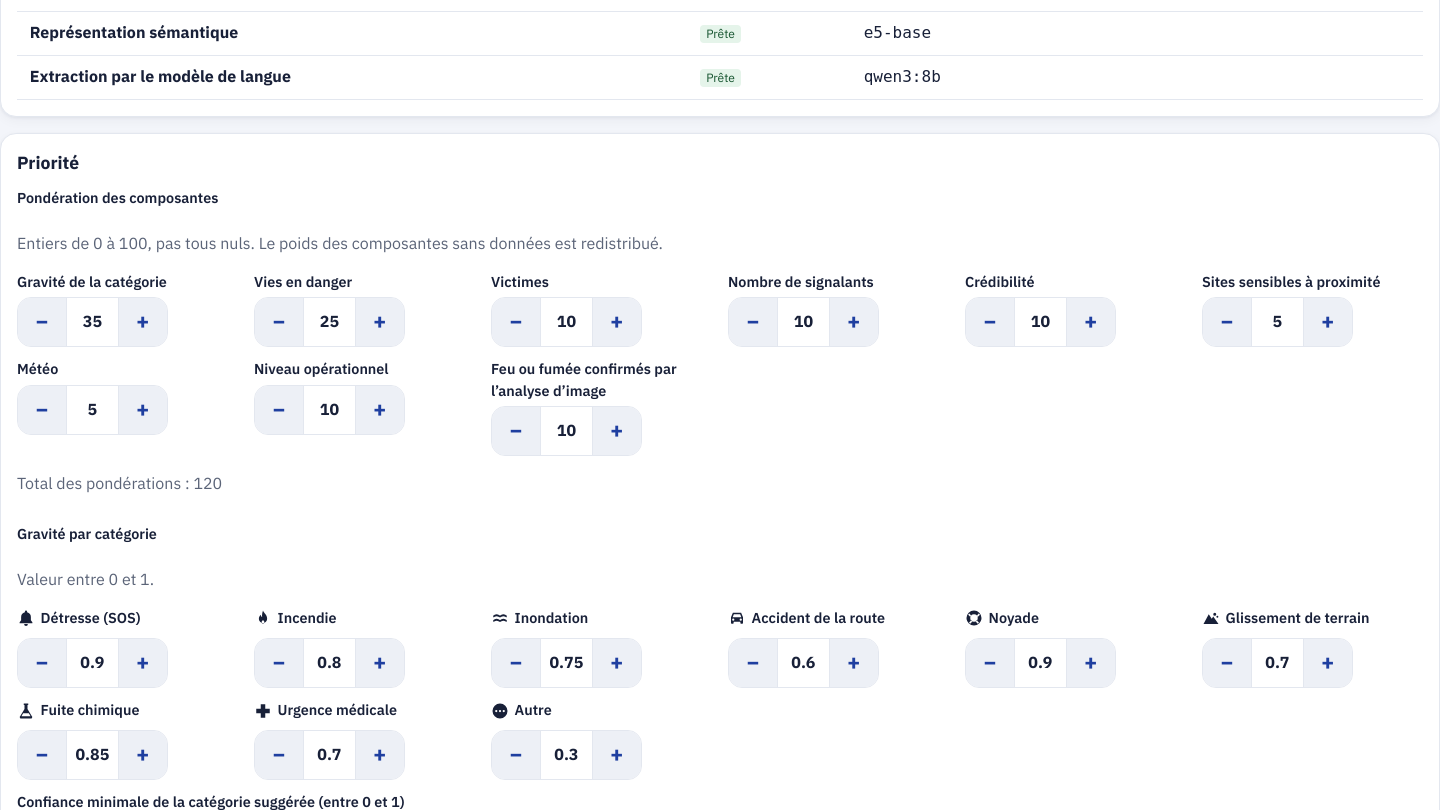
Scenario: AiSettingsPage › saves valid settings with PUT
(page scrolled)
Replace the text in the number field labelled "Météo" with "8": (92,410) x1=66 y1=386 x2=119 y2=434
(page scrolled)
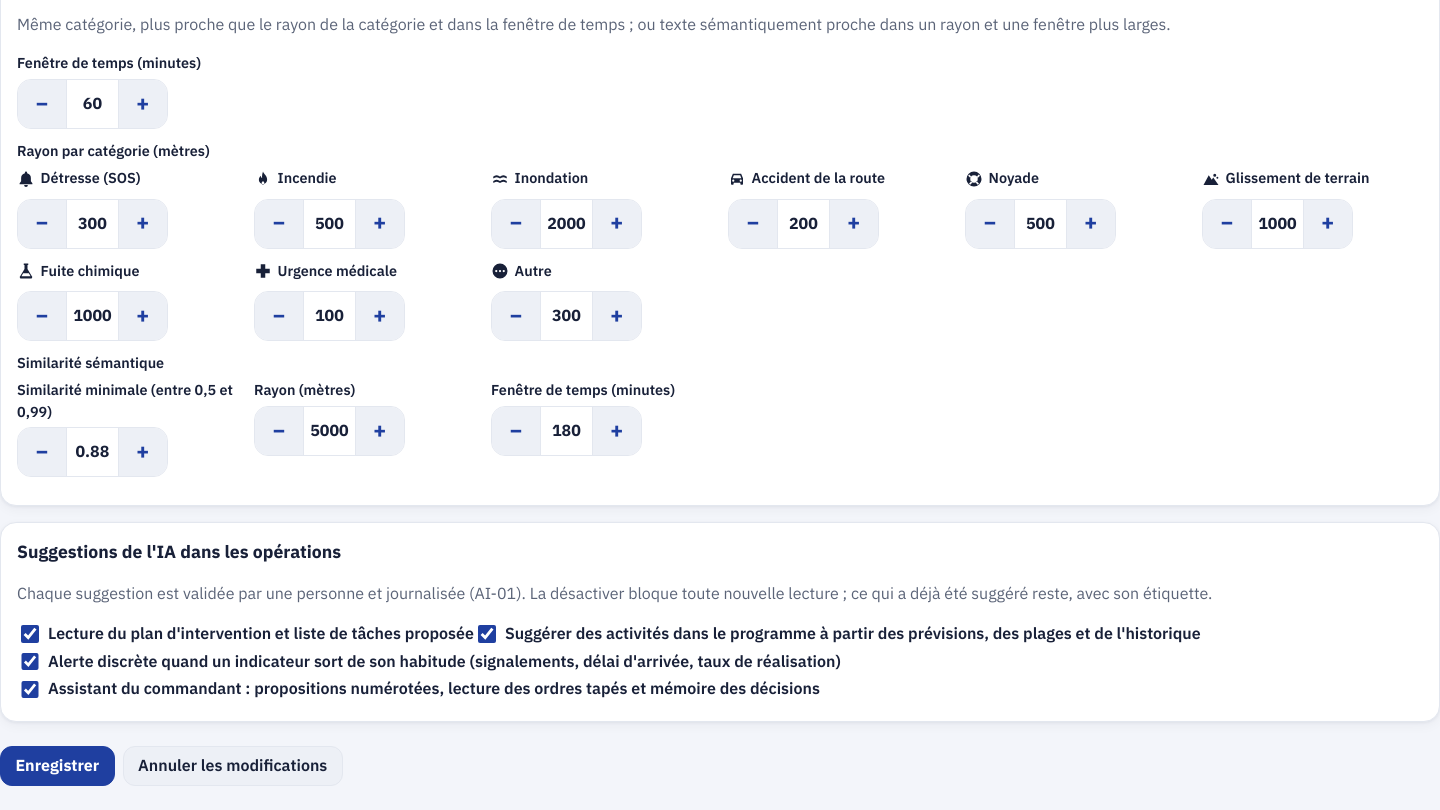
Click the button "Enregistrer": (57,766) x1=0 y1=746 x2=115 y2=786
(page scrolled)
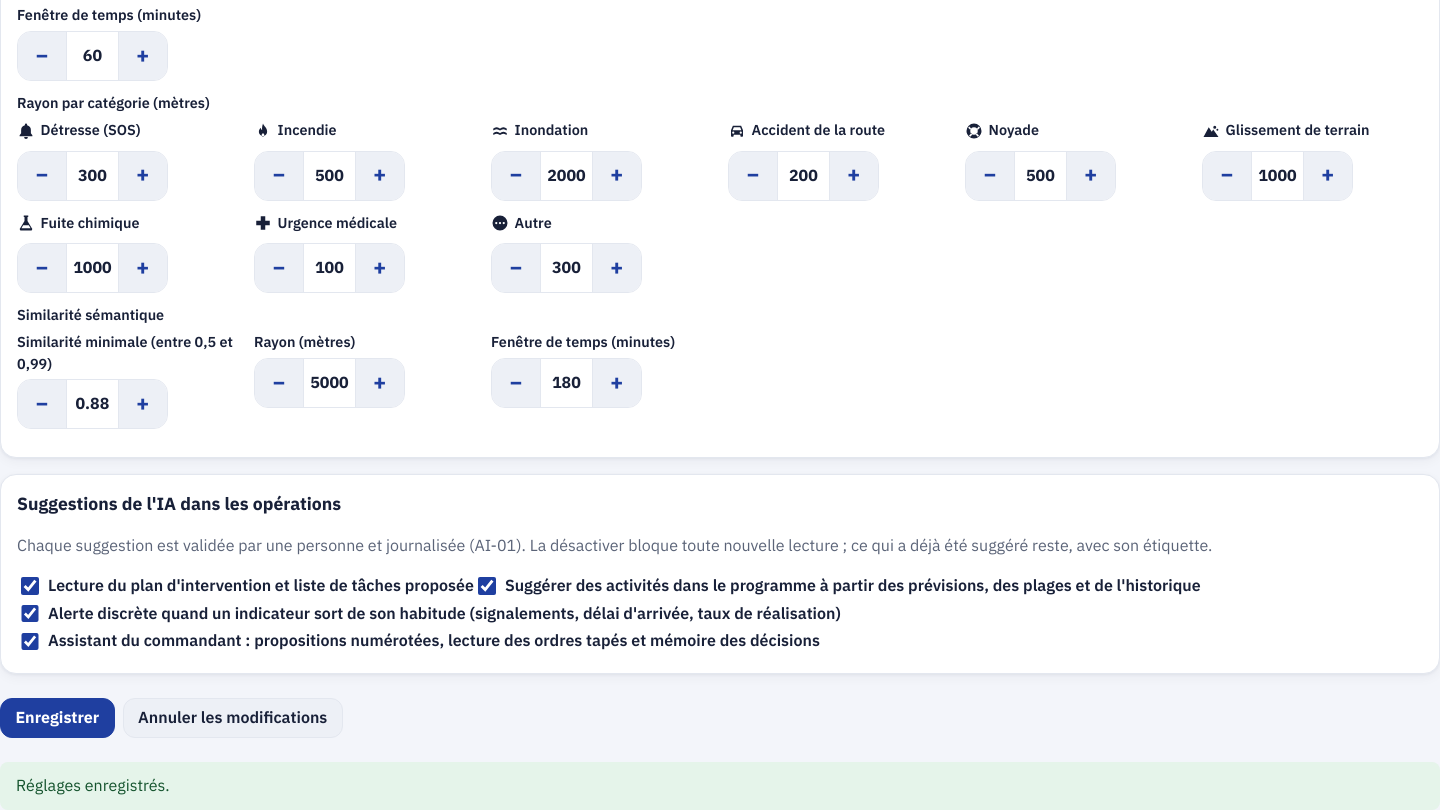
Check: the text "Réglages enregistrés." is shown, box x1=0 y1=762 x2=1439 y2=809
